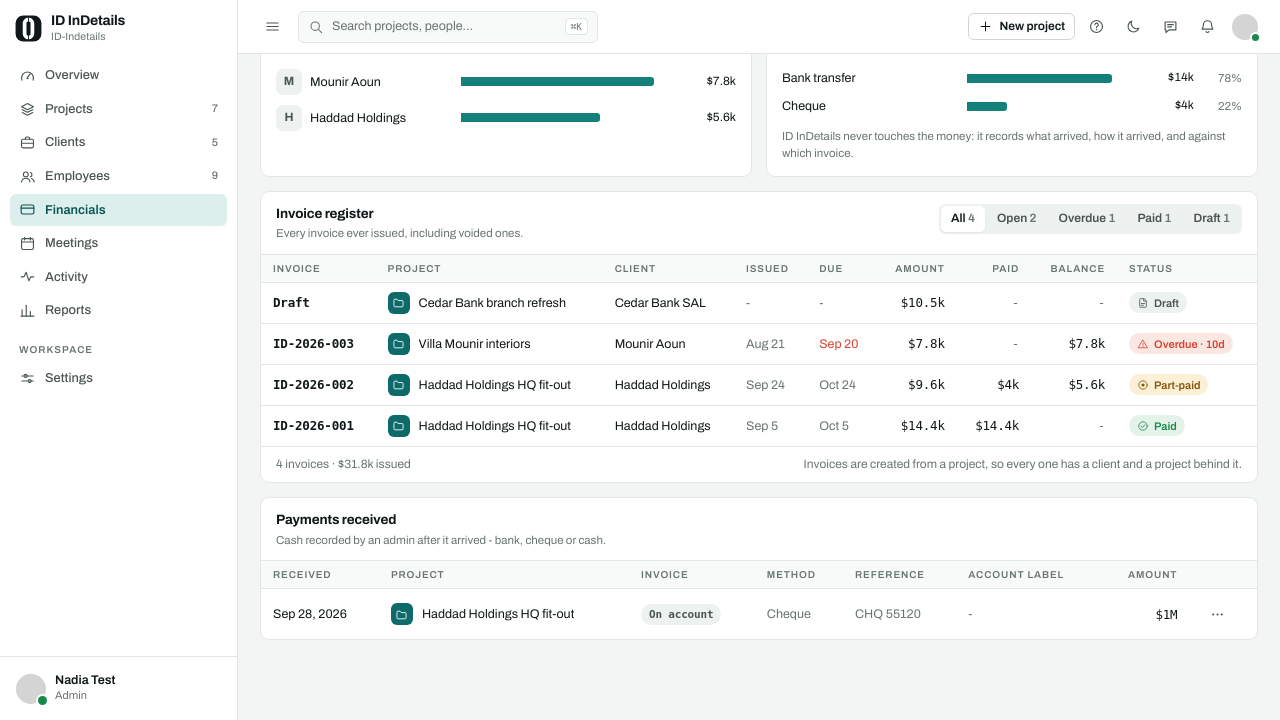
Test case: Correcting a payment › offers only invoices with room for the whole payment
This screenshot has width=1280, height=720.
(page scrolled)
Click the button named "Payment of Sep 28 actions".
click(1217, 614)  # box 1201,598 -> 1233,630
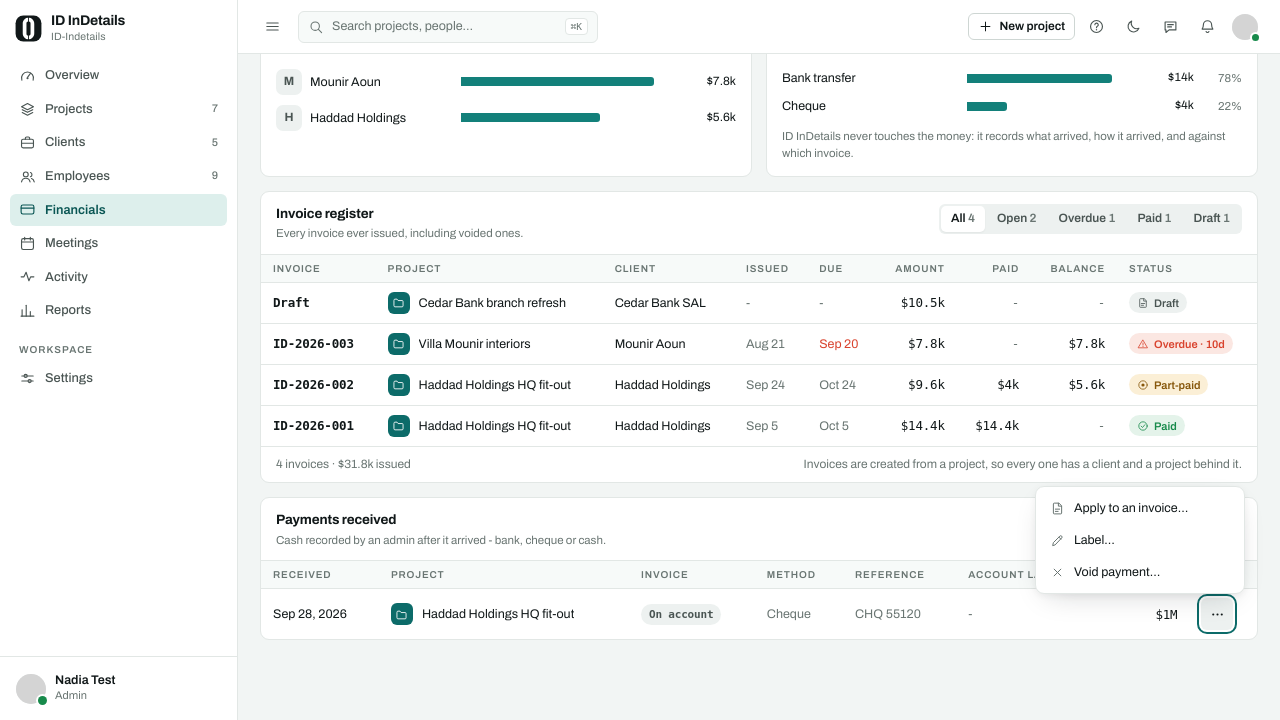
Click the button "Apply to an invoice…".
click(1140, 508)  # box 1041,492 -> 1239,524
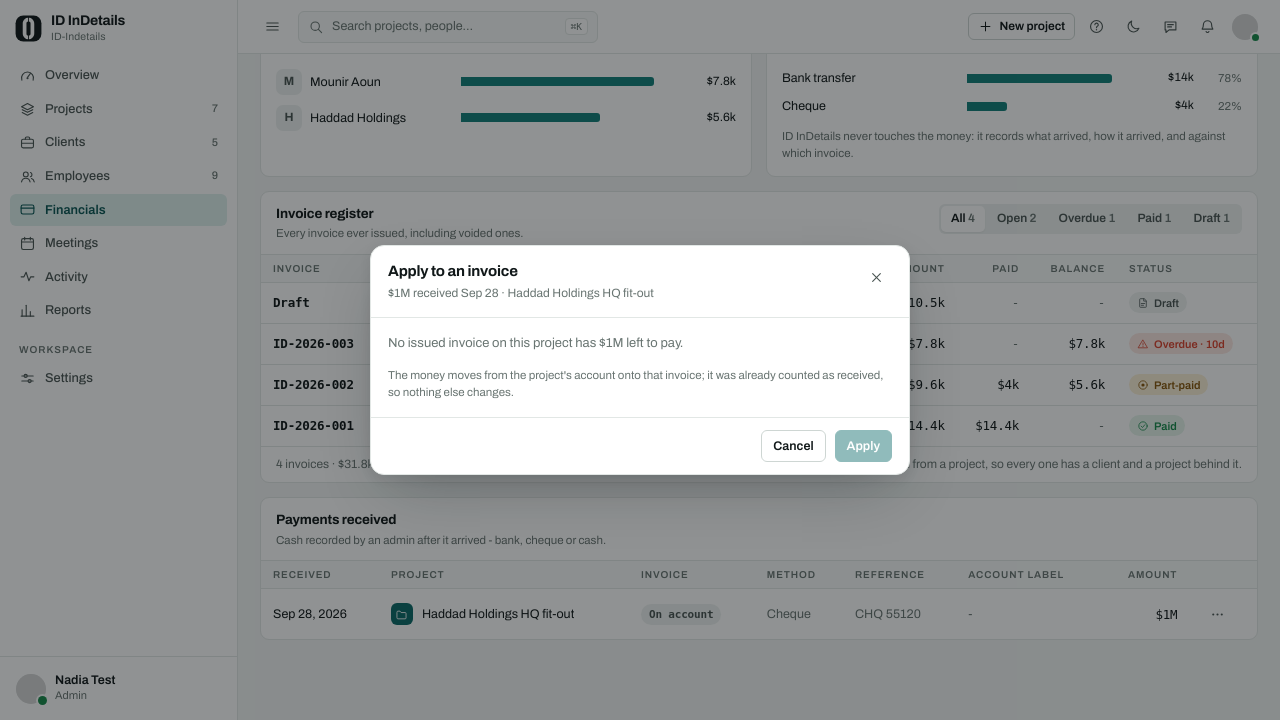
Expected: the text "No issued invoice on this project has $1M left to pay." is shown, 388,336 -> 684,350
Expected: the button "Apply" is disabled, 835,430 -> 892,462
